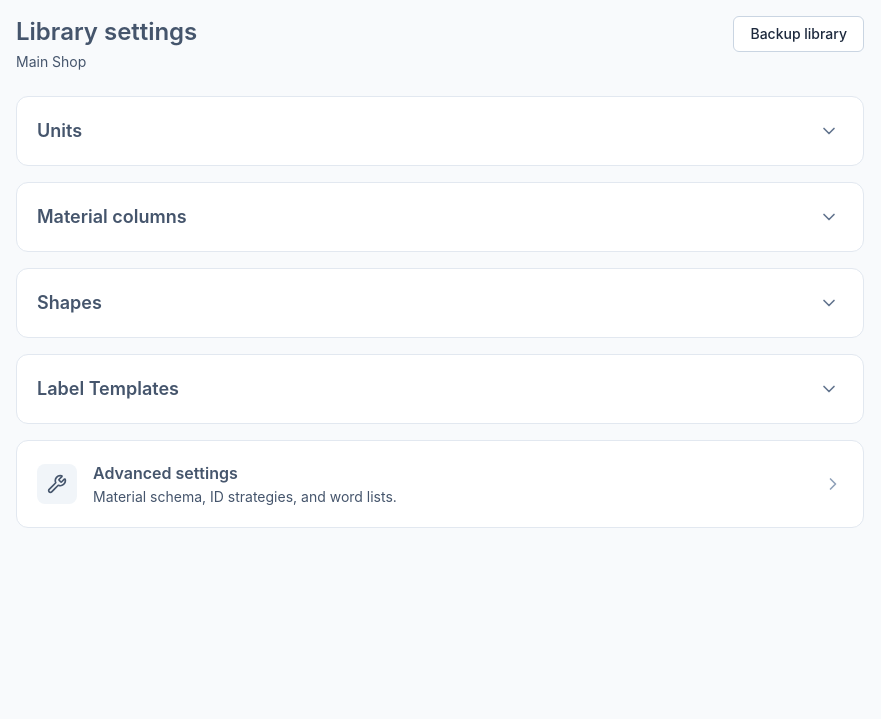
Test: LibrarySettingsView › shows an error when saving the default unit fails
Click the button named "Expand Units".
click(829, 131)  # box [815, 117, 843, 145]
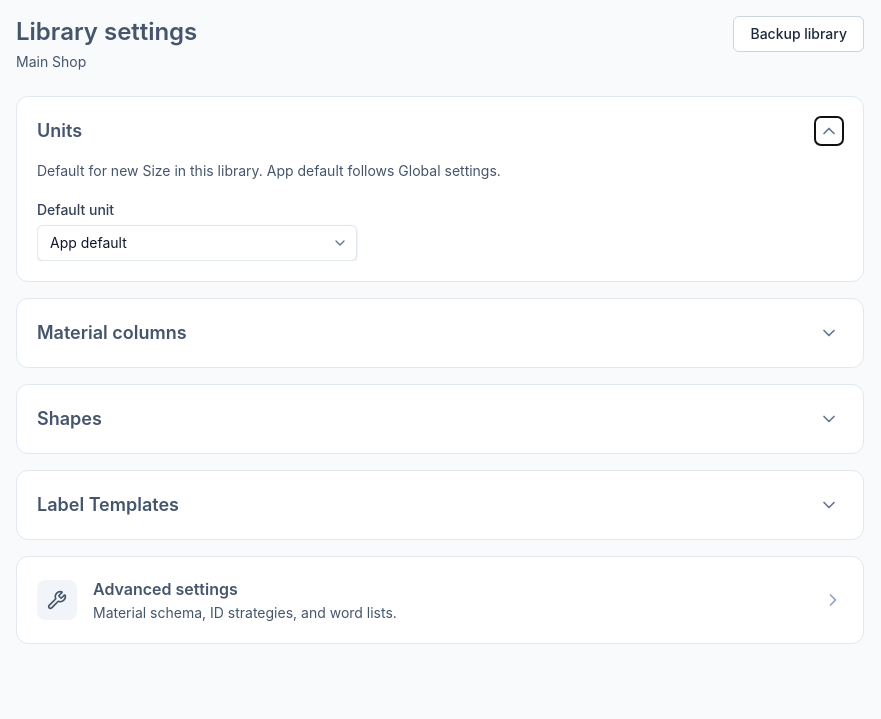
Click the dropdown named "Default unit".
click(88, 242)  # box [37, 225, 357, 261]
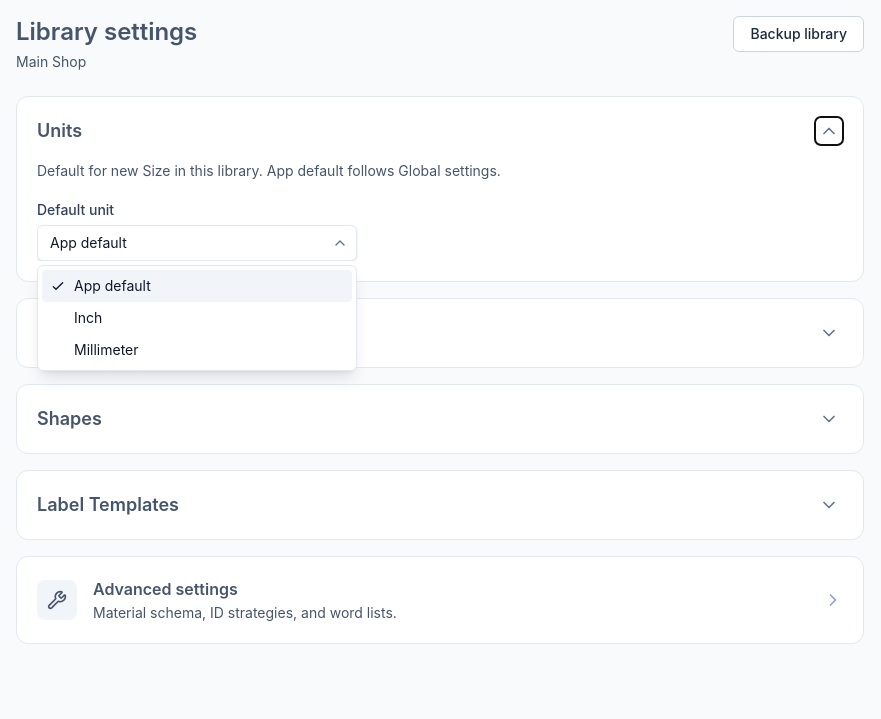
Click the option "Millimeter".
click(106, 350)  # box [42, 334, 352, 366]
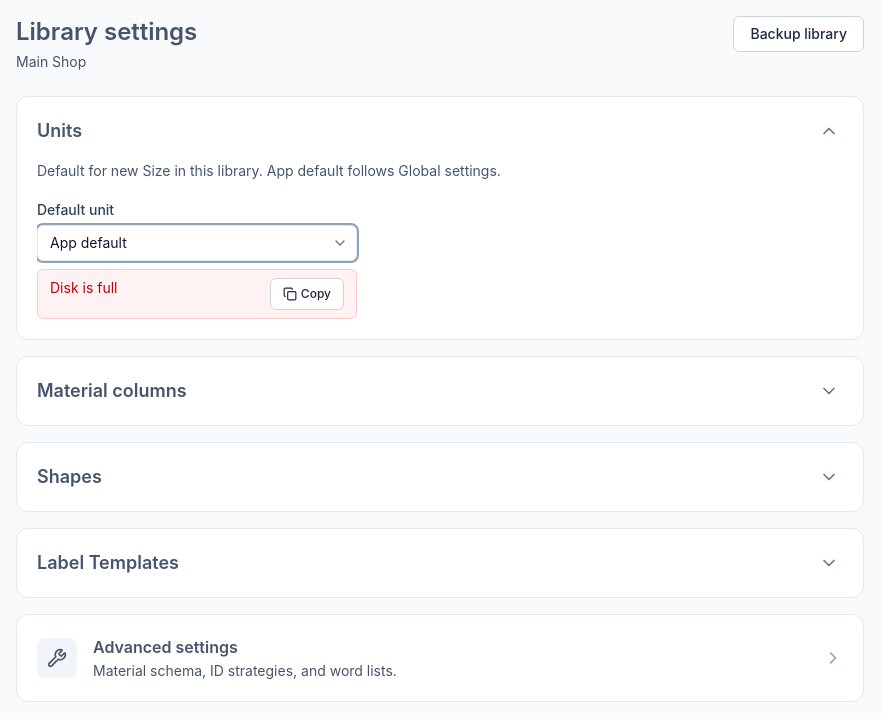
Expected: the text "Disk is full" is shown, [50, 279, 118, 296]
